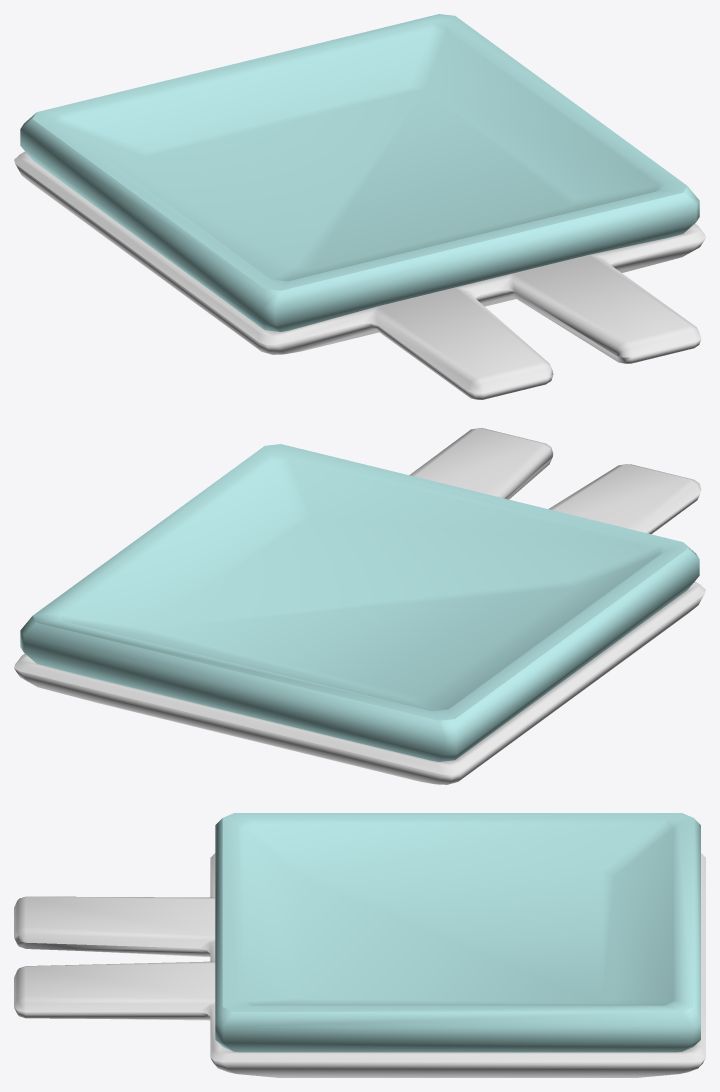
File: Shower_soap_holder.fbx
3 views of the same model, one above another, from view 1: azimuth 30°, elevation 25°; view 2: azimuth 150°, elevation 25°; view 3: azimuth 270°, elevation 25° (orthographic). The views are drawn at different scales.
Visible parts, largest first — view 1: Shower_soap_holder; view 2: Shower_soap_holder; view 3: Shower_soap_holder.
Boxes of the visible parts, <box> form: Shower_soap_holder: <box>14,14,705,399</box>; Shower_soap_holder: <box>14,428,705,784</box>; Shower_soap_holder: <box>14,813,705,1077</box>.
Bounding box in the file's own units: 19.56 × 3.62 × 27.31.
